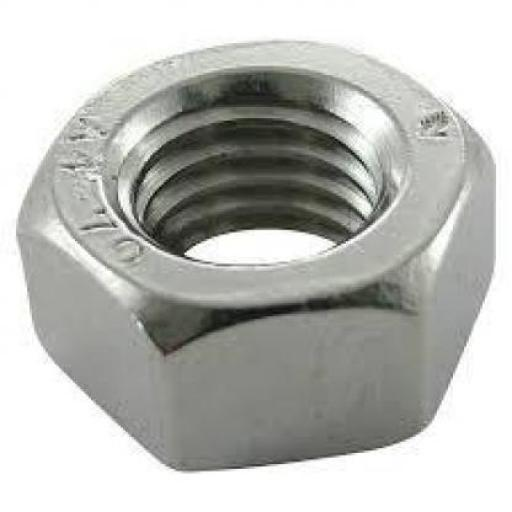Nut: (16, 39, 497, 474)
